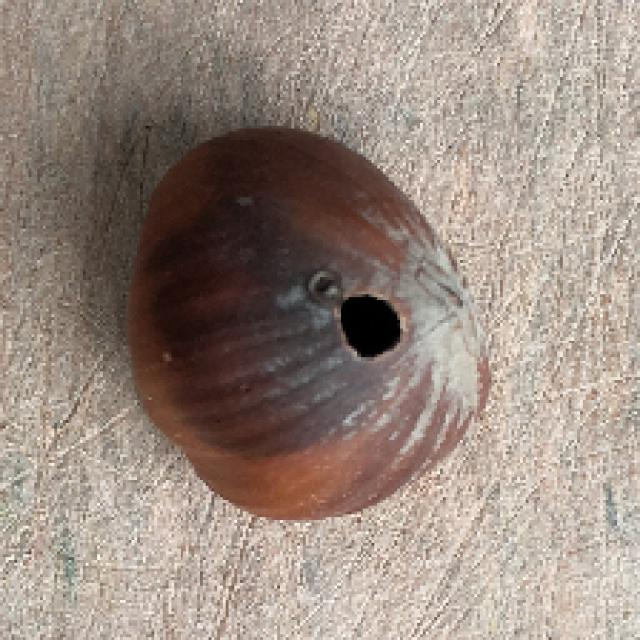DamagedHazelnut: (124, 133, 486, 522)
